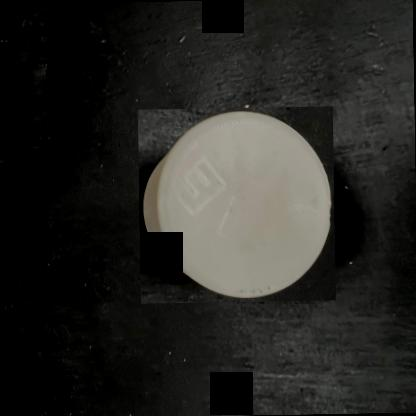white cylinder: (138, 107, 336, 304)
